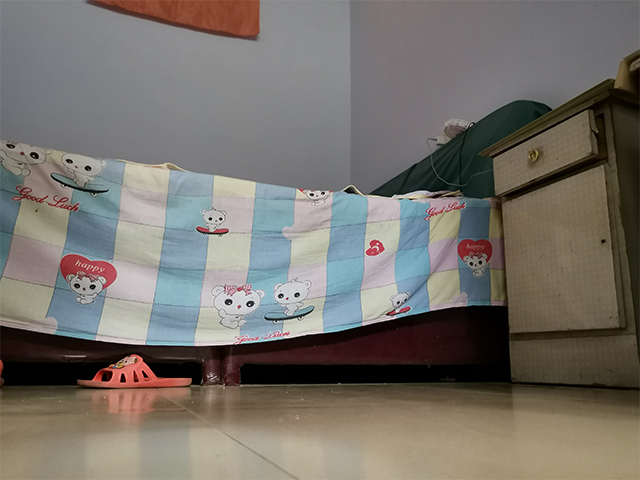bed: (1, 98, 552, 387)
cabinet: (474, 77, 639, 391)
slippers: (74, 351, 195, 390)
